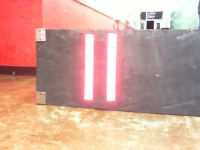switch: (106, 32, 117, 101), (84, 33, 94, 100)
